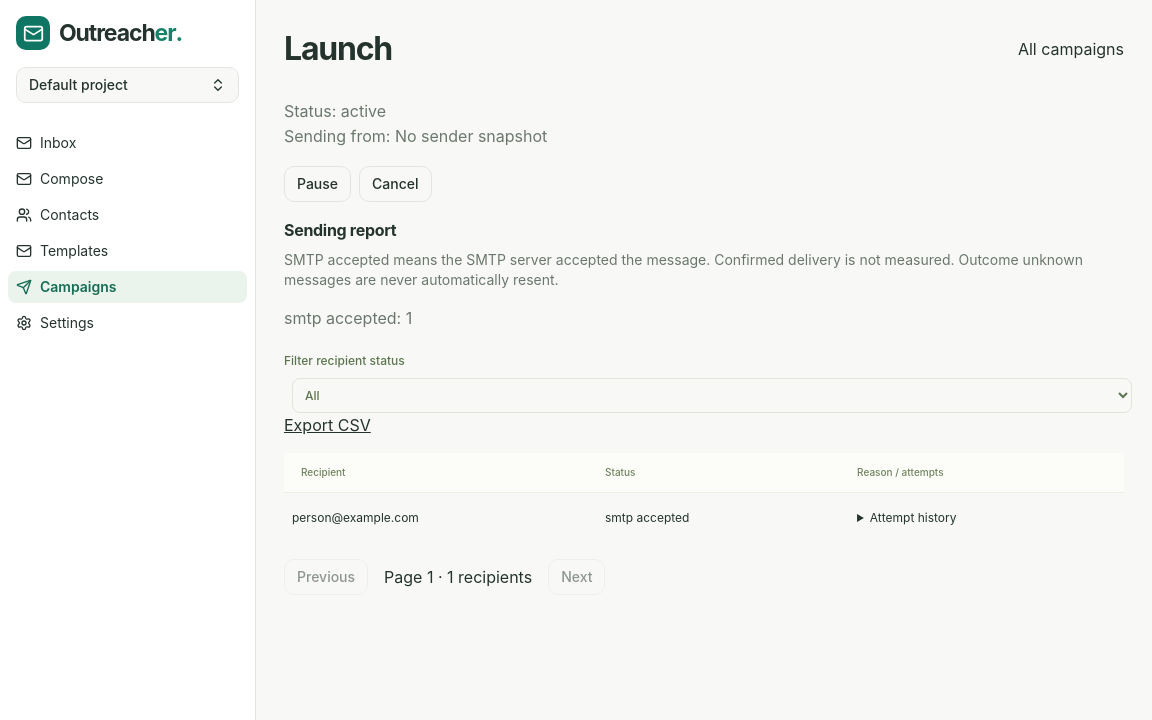
Test: switches from a campaign detail to the destination project list
Expected: the heading "Sending report" is shown, [284,220,396,240]
Click the button with aria-label "Switch project: Default project".
click(128, 84)  # box [16,66,239,102]
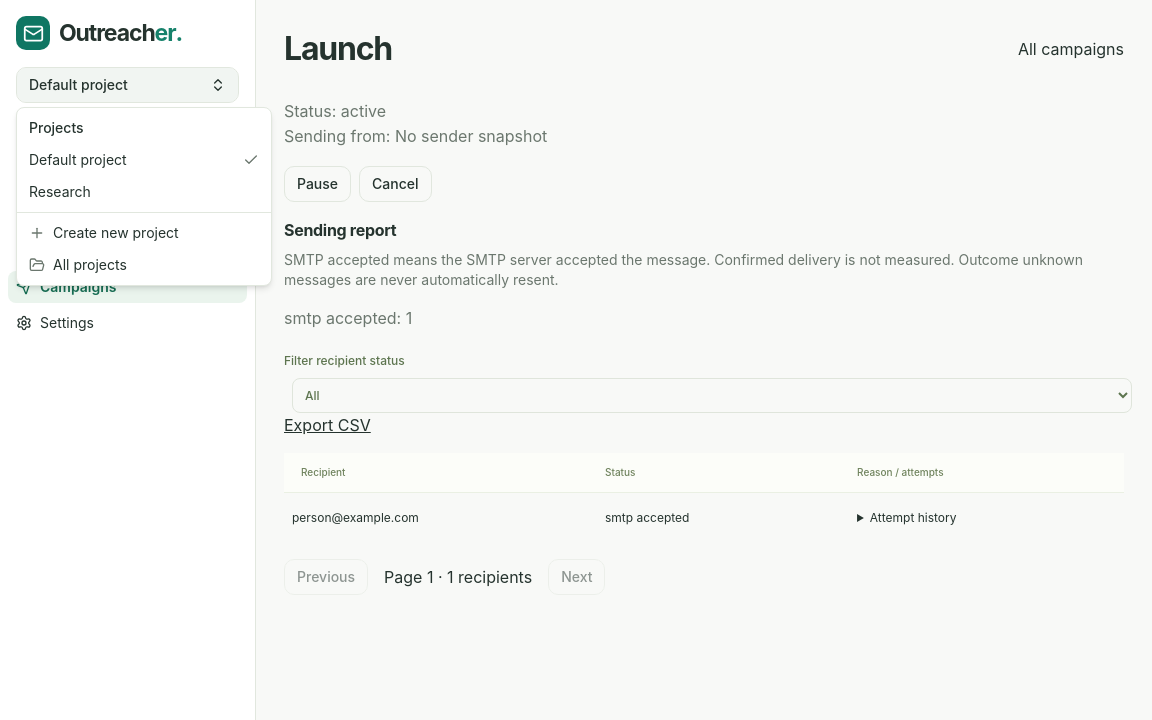
Click the menu item "Research".
click(60, 192)  # box [29,183,91,200]
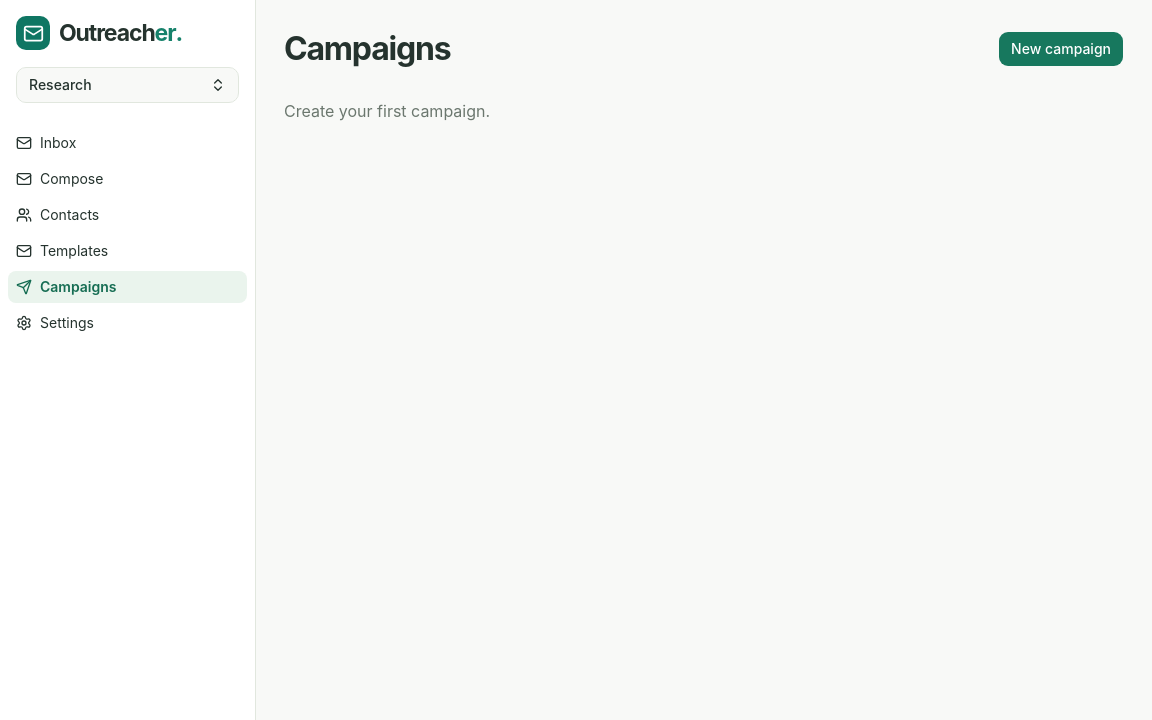
Result: the heading "Campaigns" is shown at [284,28,450,70]
Result: the text "person@example.com" is gone
